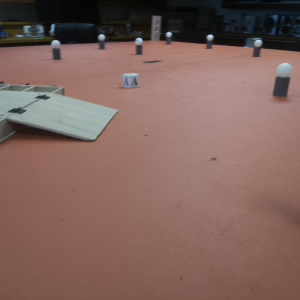obstacle: (270, 61, 294, 101), (49, 39, 64, 64), (251, 39, 265, 59), (134, 36, 146, 59), (203, 32, 218, 49), (97, 33, 106, 50), (165, 30, 174, 44)
side: (1, 78, 65, 92)
slope: (15, 94, 119, 145)
